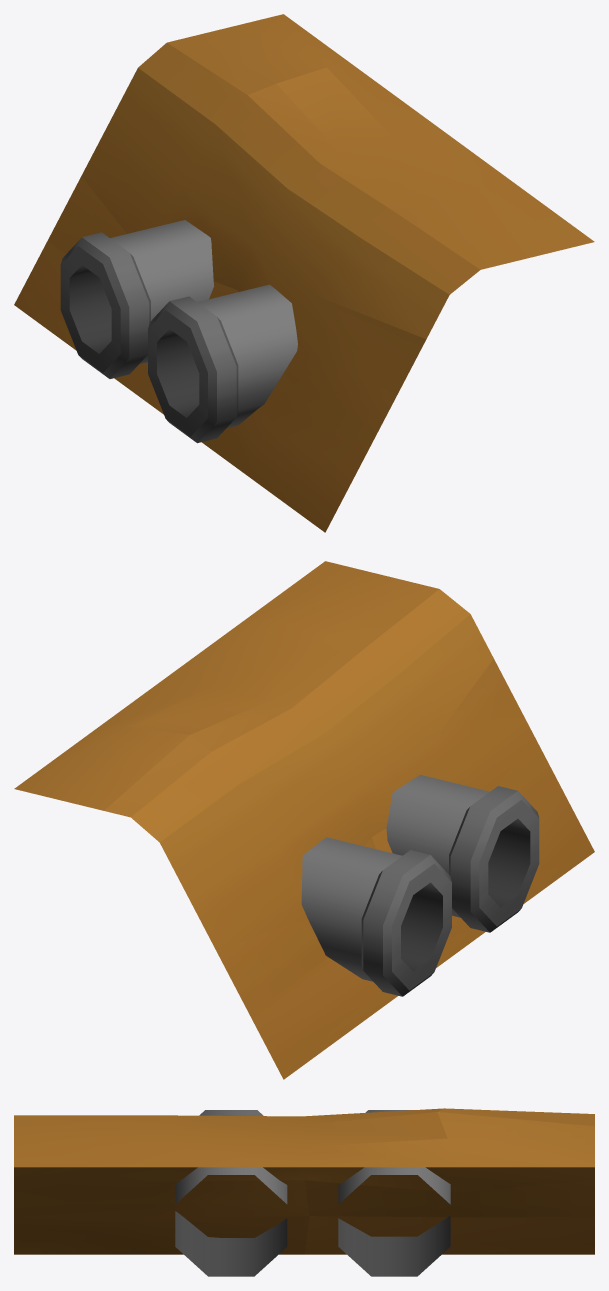
File: cGround_B_Side_3_.fbx
The picture shows the model from 3 angles, top to bottom: view 1: azimuth 30°, elevation 25°; view 2: azimuth 150°, elevation 25°; view 3: azimuth 270°, elevation 25°; orthographic projection. The views are drawn at different scales.
Visible parts, largest first — view 1: cGround_B_Side_3; view 2: cGround_B_Side_3; view 3: cGround_B_Side_3.
Boxes of the visible parts, x1=… form: cGround_B_Side_3: x1=14, y1=14, x2=594, y2=532; cGround_B_Side_3: x1=14, y1=561, x2=594, y2=1079; cGround_B_Side_3: x1=14, y1=1108, x2=594, y2=1276.
Bounding box in the file's own units: 446 × 340 × 800.
